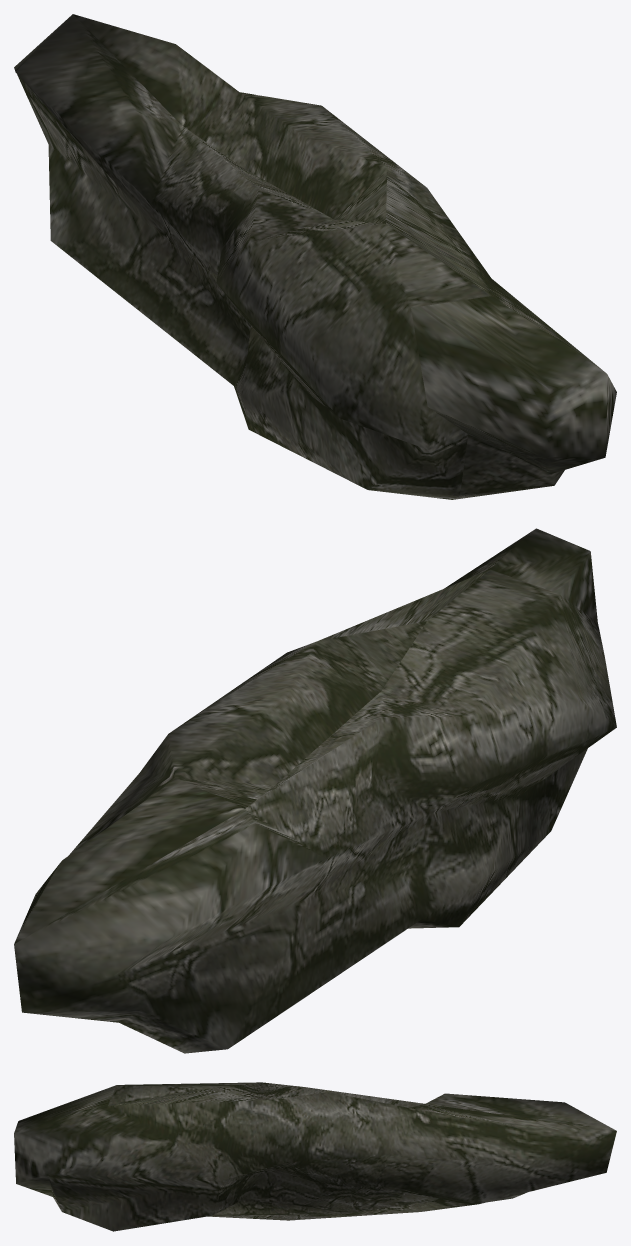
The model's file is d_rock5.FBX.
3 views of the same model, one above another, from view 1: azimuth 30°, elevation 25°; view 2: azimuth 150°, elevation 25°; view 3: azimuth 270°, elevation 25° (orthographic). The views are drawn at different scales.
Parts seen in each view (by area): view 1: TI_Cliff_02_Stone_03_LOD_01; view 2: TI_Cliff_02_Stone_03_LOD_01; view 3: TI_Cliff_02_Stone_03_LOD_01.
Part boxes in pixels (x1,y1,x2,y2): TI_Cliff_02_Stone_03_LOD_01: [14, 14, 616, 499]; TI_Cliff_02_Stone_03_LOD_01: [14, 528, 616, 1053]; TI_Cliff_02_Stone_03_LOD_01: [14, 1082, 616, 1231].
Bounding box in the file's own units: 0.5699 × 0.5766 × 2.25.
